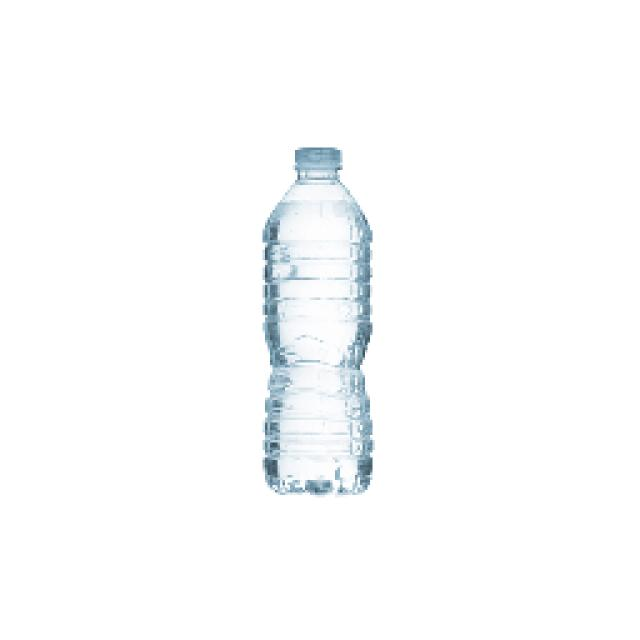plastic_water_bottles: (255, 140, 375, 497)
